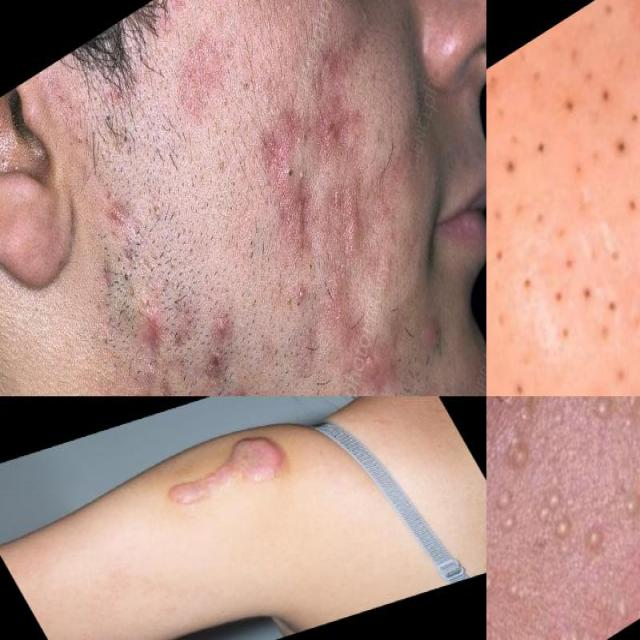6: (148, 427, 306, 520)
7: (486, 396, 576, 481), (527, 476, 578, 561), (488, 482, 524, 542), (586, 397, 640, 428), (581, 514, 611, 562), (614, 478, 640, 531), (550, 618, 586, 640), (486, 562, 502, 603)
blackheads: (135, 369, 179, 396)
dark spot: (549, 262, 640, 366), (534, 228, 608, 338), (486, 90, 534, 232), (486, 190, 526, 276), (518, 109, 562, 178), (585, 62, 626, 124), (548, 76, 588, 131), (601, 121, 639, 173), (273, 149, 307, 204), (614, 176, 640, 227), (499, 365, 532, 396)
